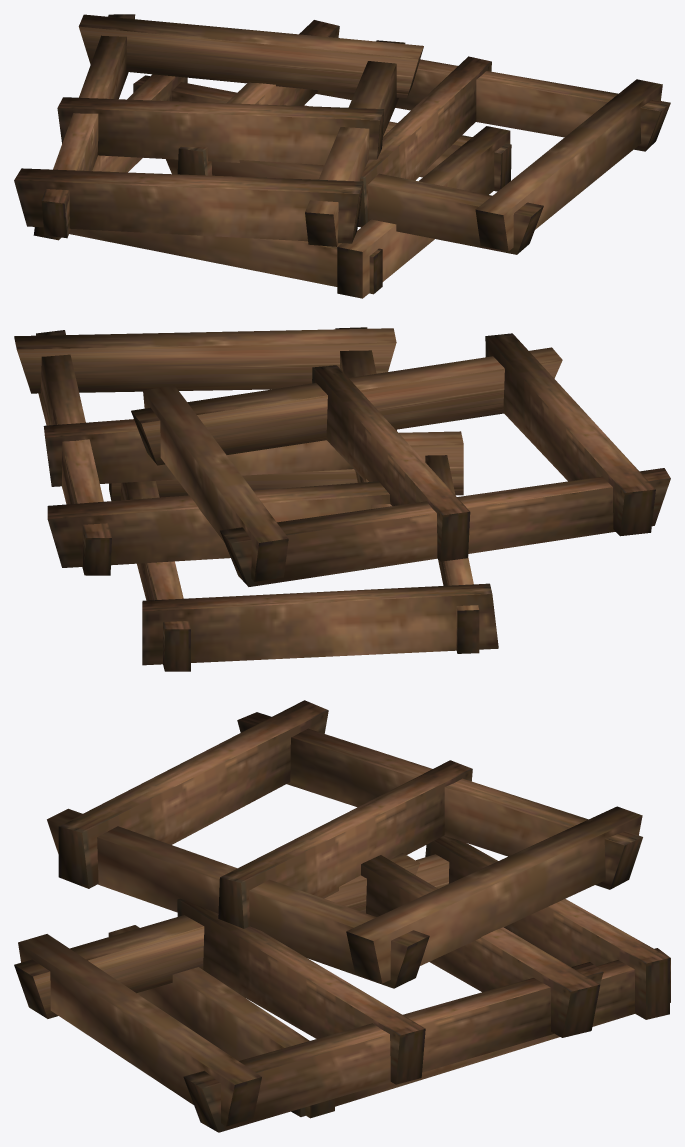
Rendered from S_Build_Forest028.FBX.
The picture shows the model from 3 angles, top to bottom: view 1: azimuth 30°, elevation 25°; view 2: azimuth 150°, elevation 25°; view 3: azimuth 270°, elevation 25°; orthographic projection. The views are drawn at different scales.
Parts seen in each view (by area): view 1: S_Build_Forest028; view 2: S_Build_Forest028; view 3: S_Build_Forest028.
Boxes of the visible parts, bbox=[...] form: S_Build_Forest028: bbox=[14, 14, 670, 298]; S_Build_Forest028: bbox=[14, 327, 670, 671]; S_Build_Forest028: bbox=[14, 700, 670, 1132].
Size of the model in its own units: 283 by 226 by 56.49.
